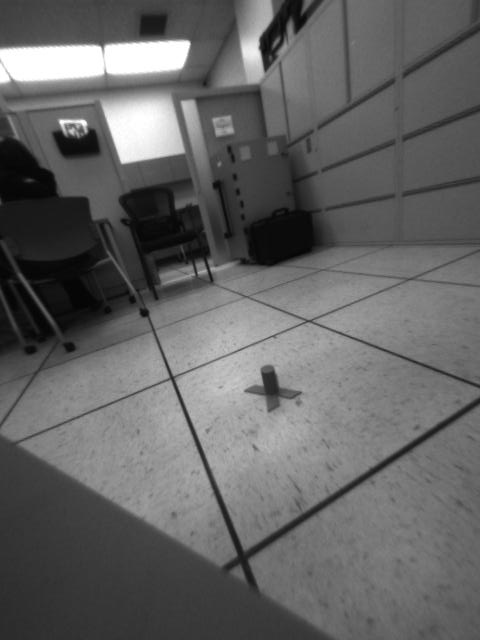X: (243, 364, 303, 413)
